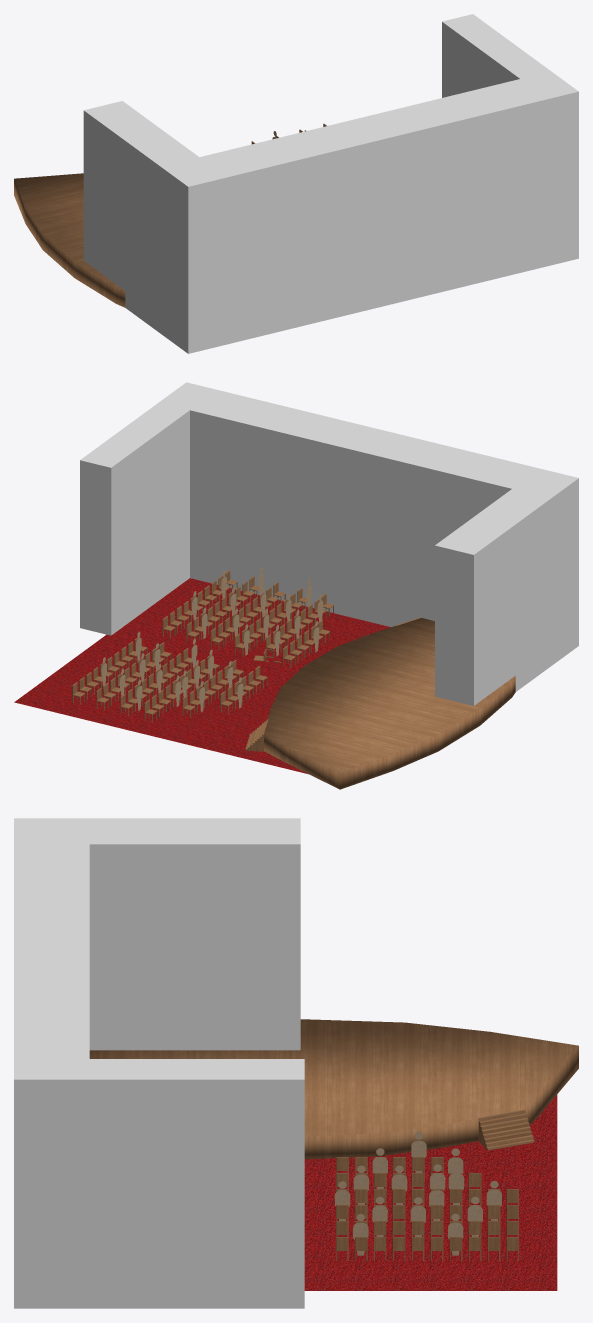
File: AuditoriumUnFinished.glb
3 views of the same model, one above another, from view 1: azimuth 30°, elevation 25°; view 2: azimuth 150°, elevation 25°; view 3: azimuth 270°, elevation 25° (orthographic). The views are drawn at different scales.
Parts seen in each view (by area): view 1: Walls, Stage; view 2: Walls, Stage, Floor, row6, row4, row5, row3, row2, row1; view 3: Walls, Stage, Floor, row6, Stairs, row5, row4, row3, row1, row2.
Boxes of the visible parts, x1,y1,x2,y2 form: Walls: (83,14,578,353); Stage: (14,173,125,307); Walls: (80,382,578,705); Stage: (264,618,515,789); Floor: (14,578,390,774); row6: (72,570,237,704); row4: (120,582,285,716); row5: (96,576,259,710); row3: (144,588,307,722); row2: (182,594,333,718); row1: (220,620,329,713); Walls: (14,818,304,1308); Stage: (89,1019,578,1159); Floor: (304,1094,557,1290); row6: (336,1237,518,1261); Stairs: (478,1109,534,1150); row5: (336,1221,518,1236); row4: (336,1205,518,1220); row3: (336,1189,518,1204); row1: (336,1157,443,1180); row2: (336,1173,481,1196).
Size of the model in its own units: 24.95 by 10.04 by 22.36.
3 materials, 3 textured.
